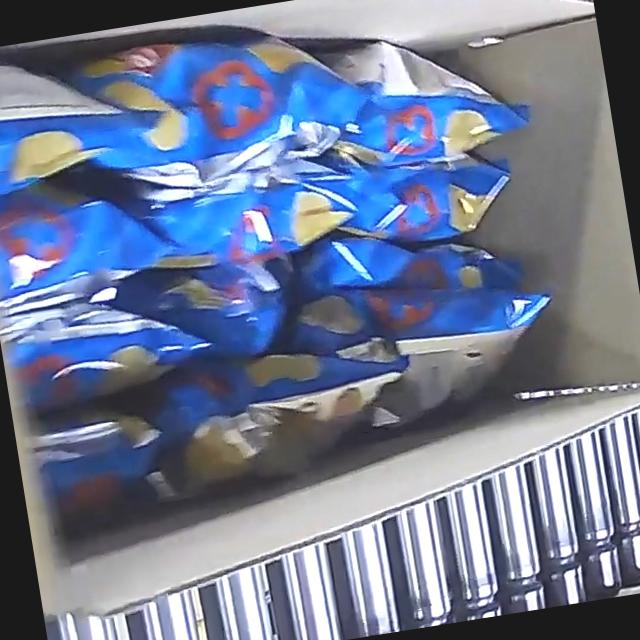paprika: (0, 0, 585, 532)
